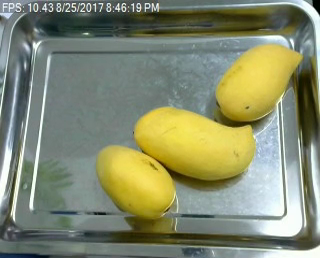Mango: (132, 103, 258, 180), (215, 38, 303, 124), (91, 142, 180, 220)
